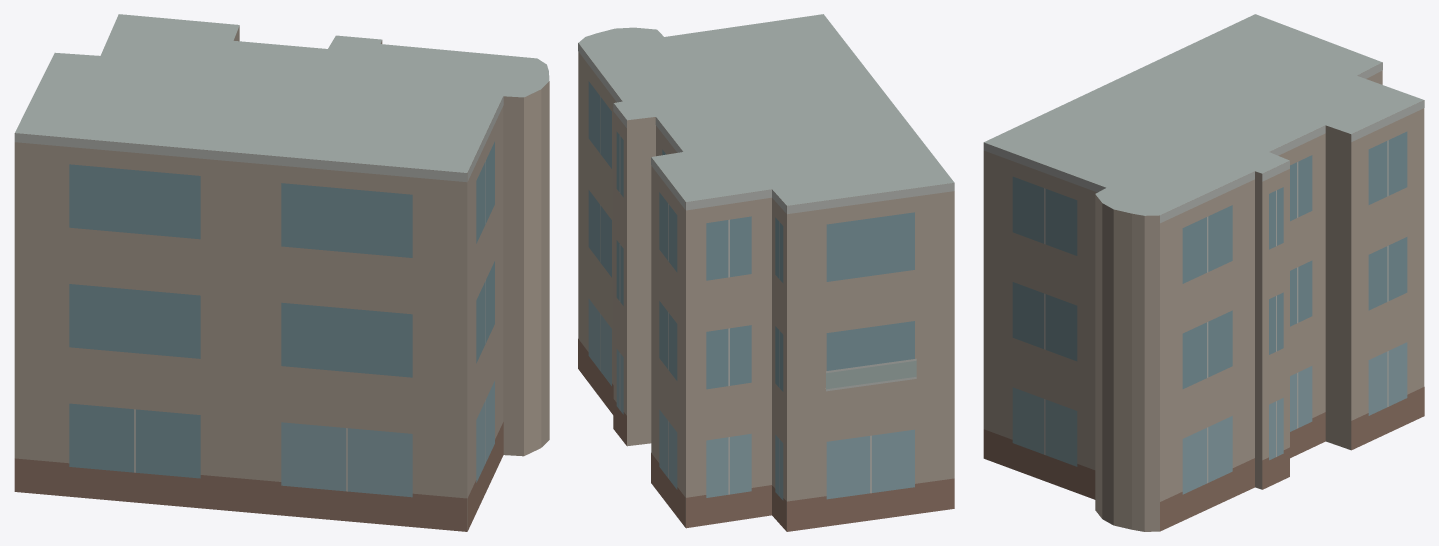
Rendered from survey-upis-32473503.glb.
The picture shows the model from 3 angles, left to right: view 1: azimuth 30°, elevation 25°; view 2: azimuth 150°, elevation 25°; view 3: azimuth 270°, elevation 25°; orthographic projection. The views are drawn at different scales.
Parts seen in each view (by area): view 1: survey-upis-32473503.tmp; view 2: survey-upis-32473503.tmp; view 3: survey-upis-32473503.tmp.
Boxes of the visible parts, bbox=[...] form: survey-upis-32473503.tmp: bbox=[14, 14, 549, 531]; survey-upis-32473503.tmp: bbox=[578, 14, 954, 531]; survey-upis-32473503.tmp: bbox=[983, 14, 1424, 531].
Bounding box in the file's own units: 13.08 × 9.55 × 12.07.
